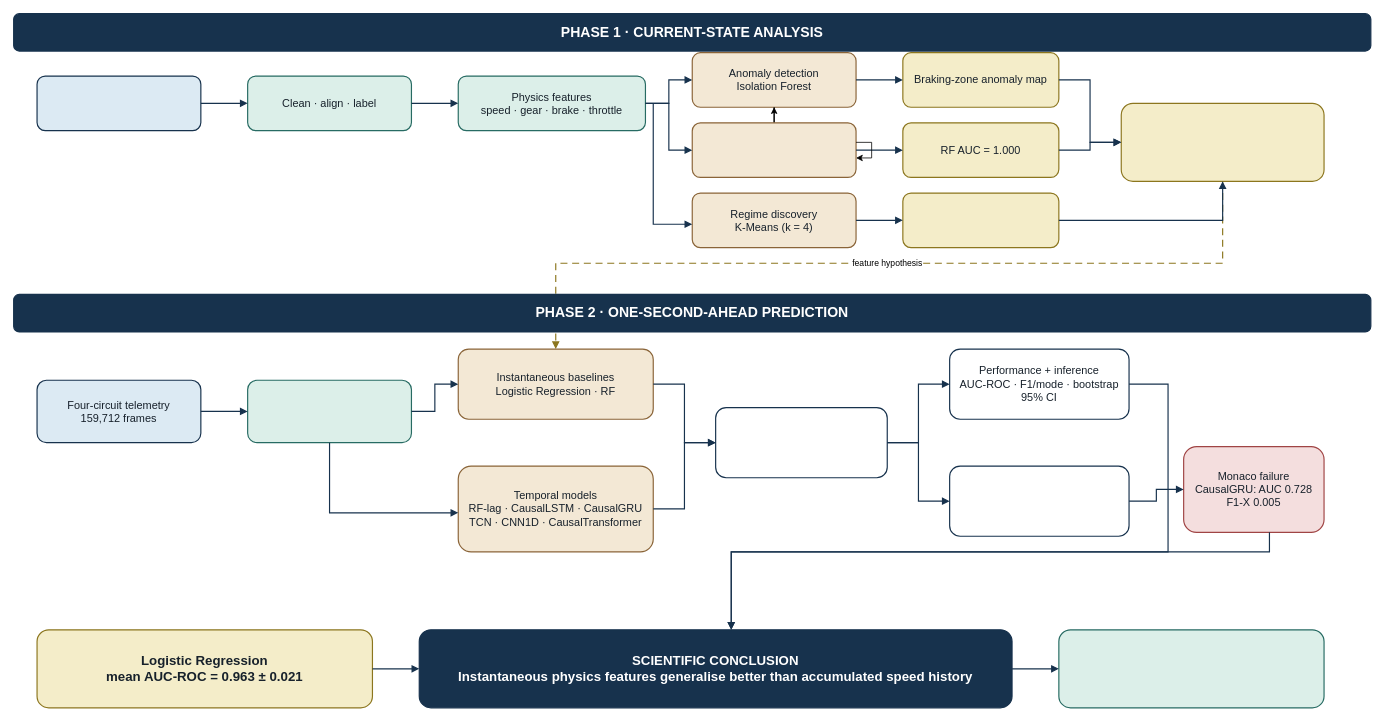
Image size: 1385x722. Some labels were removed from this diagram. Each missing label, with the centre of its shape:
"4 regimes η² = 0.555" goes at point (980, 220).
"Control implication Predict X/Z state 1 s before actuation" goes at point (1191, 668).
"Integrated Gradients attention maps" goes at point (1039, 500).
"LOCO validation 4 held-out circuits" goes at point (801, 442).
"Mode classification Logistic Regression · RF" goes at point (773, 150).
"Permutation evidence Gear ΔAUC = 0.167" goes at point (1222, 142).
"Suzuka GP telemetry 63,673 frames" goes at point (118, 103).
"Windowed representation W = 50 · H = 10 5 s → 1 s horizon" goes at point (329, 411).
